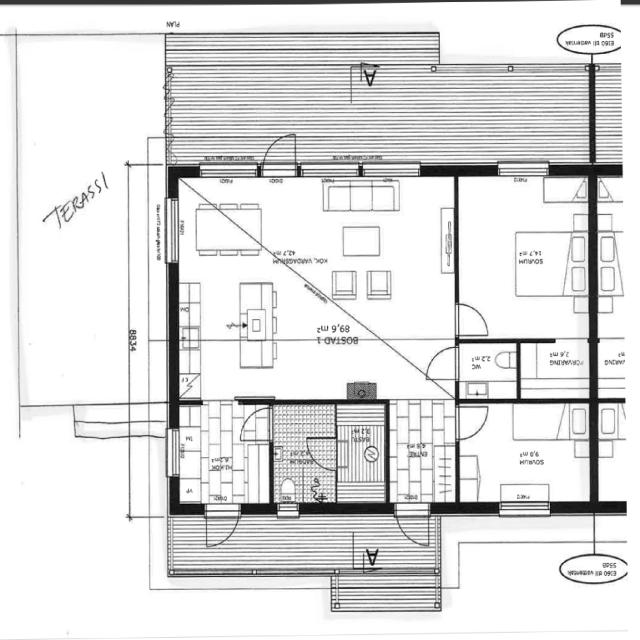door: (200, 500, 244, 550), (391, 500, 434, 550), (259, 128, 300, 175), (448, 298, 492, 341), (450, 401, 492, 444), (424, 342, 464, 384), (238, 409, 272, 447), (620, 395, 640, 433)
window: (190, 168, 262, 258), (159, 192, 186, 274), (295, 158, 363, 184), (358, 160, 426, 182), (492, 498, 556, 521), (194, 160, 260, 182), (492, 160, 554, 181), (162, 424, 184, 483)
zone: (220, 174, 458, 303), (455, 171, 590, 340), (457, 400, 592, 510), (593, 166, 640, 403), (271, 401, 336, 505), (191, 171, 263, 260), (337, 399, 388, 504), (518, 339, 592, 402), (456, 341, 520, 401)
